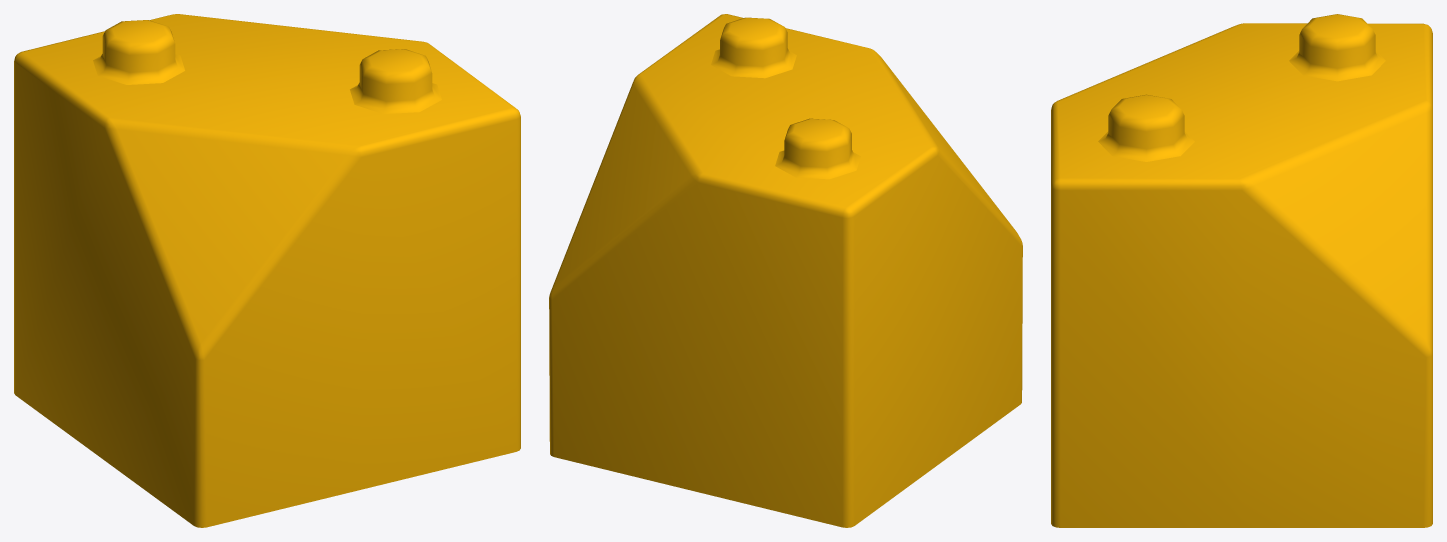
File: Bevel_Two_Vertex_Opposite.fbx
3 renders of one model, left to right at view 1: azimuth 30°, elevation 25°; view 2: azimuth 150°, elevation 25°; view 3: azimuth 270°, elevation 25°, orthographic. The views are drawn at different scales.
Visible parts, largest first — view 1: Bevel_Two_Vertex_Opposite, Knobs.011; view 2: Bevel_Two_Vertex_Opposite, Knobs.011; view 3: Bevel_Two_Vertex_Opposite, Knobs.011.
Boxes of the visible parts, x1,y1,x2,y2 form: Bevel_Two_Vertex_Opposite: (14, 14, 520, 527); Knobs.011: (93, 20, 441, 113); Bevel_Two_Vertex_Opposite: (549, 14, 1022, 527); Knobs.011: (711, 17, 860, 179); Bevel_Two_Vertex_Opposite: (1051, 23, 1432, 527); Knobs.011: (1098, 14, 1385, 161).
Size of the model in its own units: 1 by 1.1 by 1.
